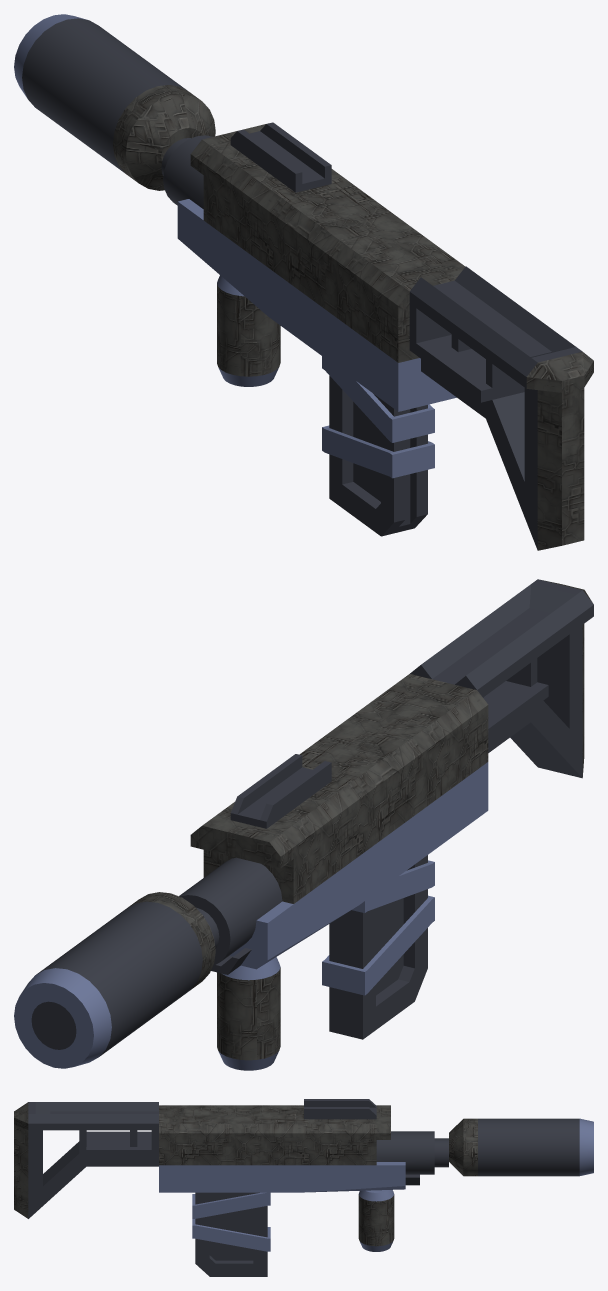
File: gun1.glb
3 views of the same model, one above another, from view 1: azimuth 30°, elevation 25°; view 2: azimuth 150°, elevation 25°; view 3: azimuth 270°, elevation 25° (orthographic). The views are drawn at different scales.
Parts seen in each view (by area): view 1: stock_stealth, blaster_center, attachment_silencer, blaster_barrel, clip_tape, attachment_handle, detailRail_front; view 2: blaster_center, blaster_barrel, attachment_silencer, stock_stealth, clip_tape, attachment_handle, detailRail_front; view 3: blaster_center, stock_stealth, blaster_barrel, attachment_silencer, clip_tape, attachment_handle, detailRail_front.
Part boxes in pixels (<box>): stock_stealth: <box>409,266,593,550</box>; blaster_center: <box>268,180,465,411</box>; attachment_silencer: <box>14,14,215,190</box>; blaster_barrel: <box>161,123,346,316</box>; clip_tape: <box>322,356,434,536</box>; attachment_handle: <box>217,275,280,386</box>; detailRail_front: <box>230,122,331,192</box>; blaster_center: <box>299,674,488,904</box>; blaster_barrel: <box>179,781,358,969</box>; attachment_silencer: <box>14,892,215,1068</box>; stock_stealth: <box>410,579,593,778</box>; clip_tape: <box>322,855,434,1039</box>; attachment_handle: <box>211,948,280,1070</box>; detailRail_front: <box>230,754,331,828</box>; blaster_center: <box>159,1105,303,1192</box>; stock_stealth: <box>14,1102,158,1218</box>; blaster_barrel: <box>304,1105,448,1192</box>; attachment_silencer: <box>449,1118,593,1176</box>; clip_tape: <box>192,1192,270,1276</box>; attachment_handle: <box>358,1174,419,1251</box>; detailRail_front: <box>304,1099,376,1119</box>.
Size of the model in its own units: 0.4 by 1.28 by 4.
17 materials, 5 textured.
